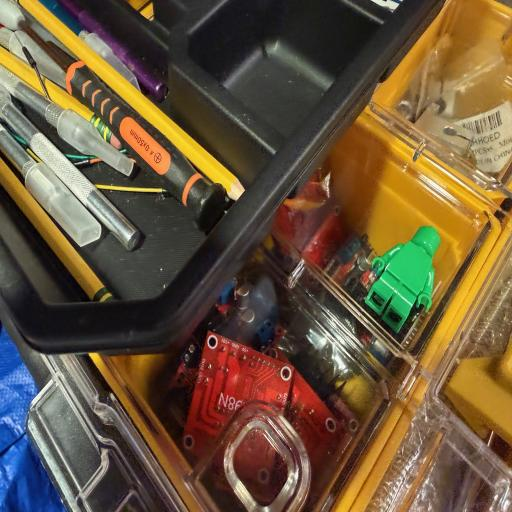Lego-Dude: (365, 226, 440, 332)
